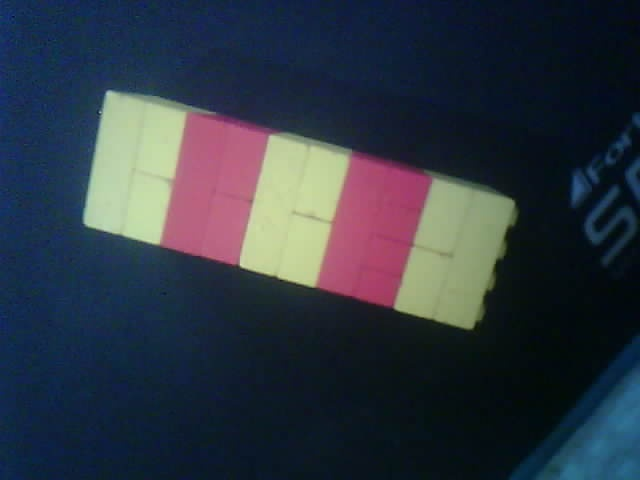lego: (80, 86, 518, 332)
